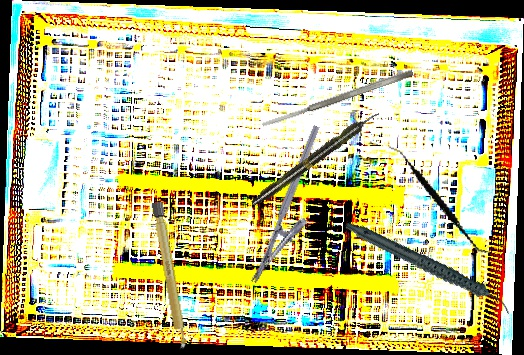Handpiece: (344, 191, 514, 344), (248, 107, 383, 210)
Needle Holder: (250, 124, 342, 293)
Scalpel Handle: (150, 201, 189, 351)
Spatula Surgical: (366, 143, 513, 256), (260, 68, 415, 129)
